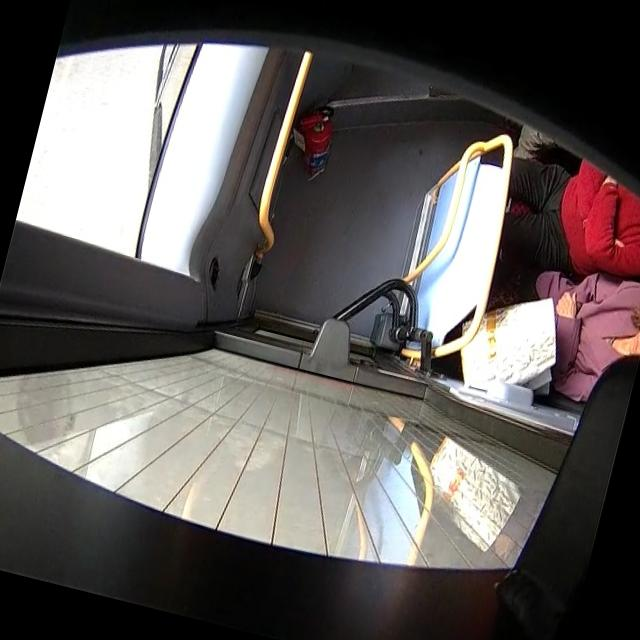bus-door: (0, 316, 639, 640)
